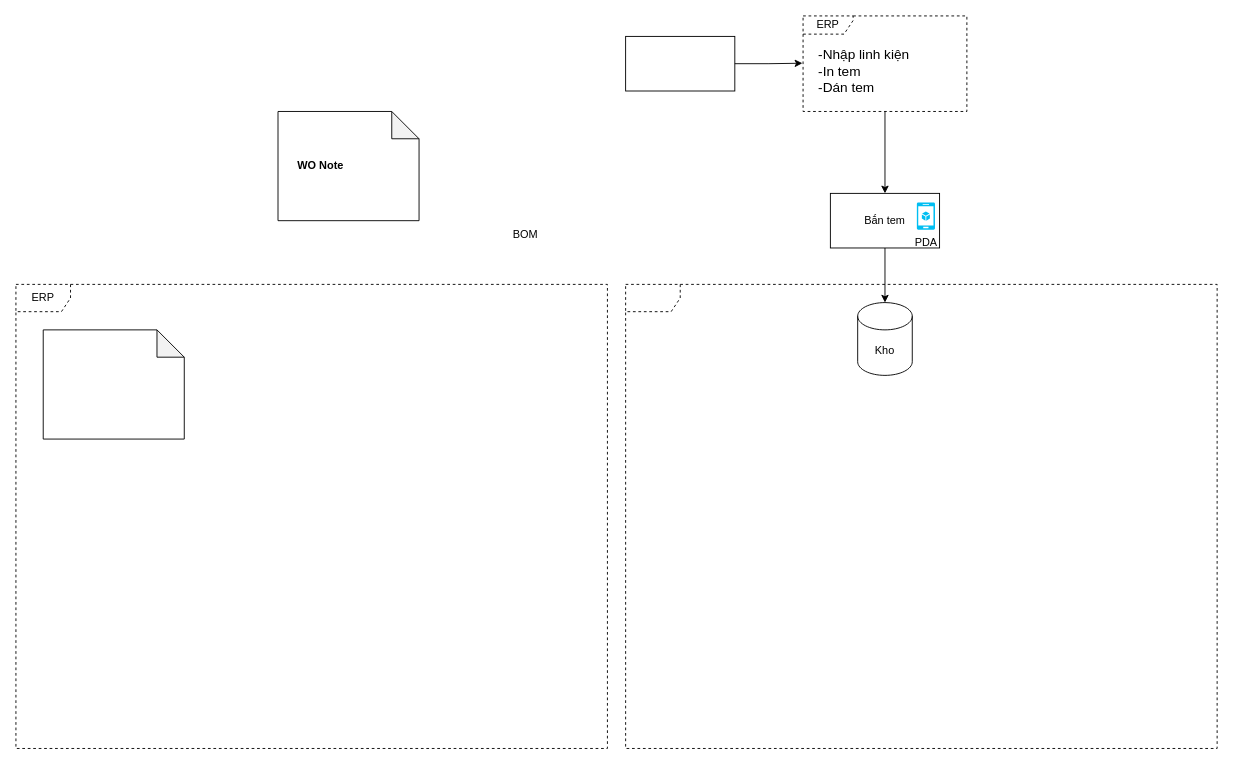
This 1233x764 diagram has some shape labels left out. Here are the shapes that lost their labels. From the top down, the centre of each, then its label:
the point at 680,63: Mua
the point at 113,384: Product BOM
the point at 921,515: MES
